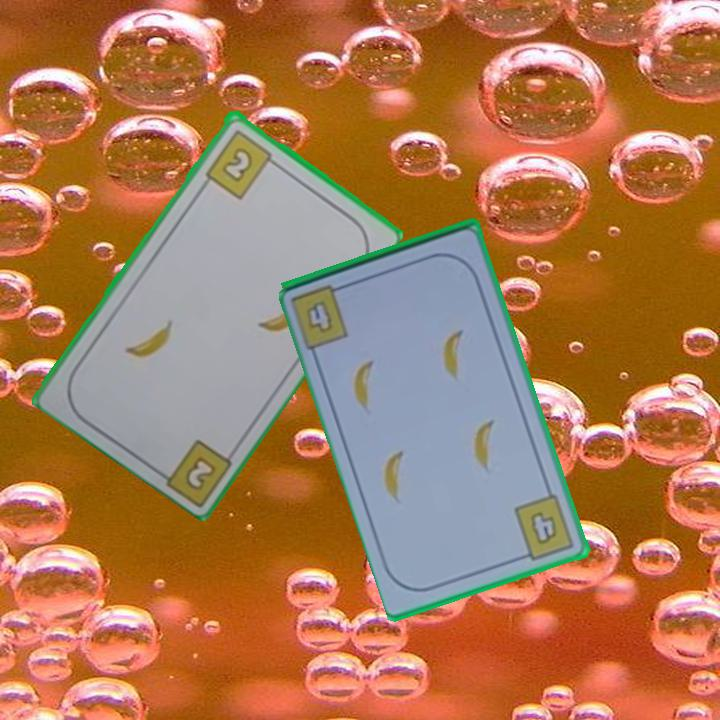2b: (201, 125, 281, 201), (181, 452, 219, 493)
4b: (510, 490, 578, 564), (302, 297, 336, 337)
